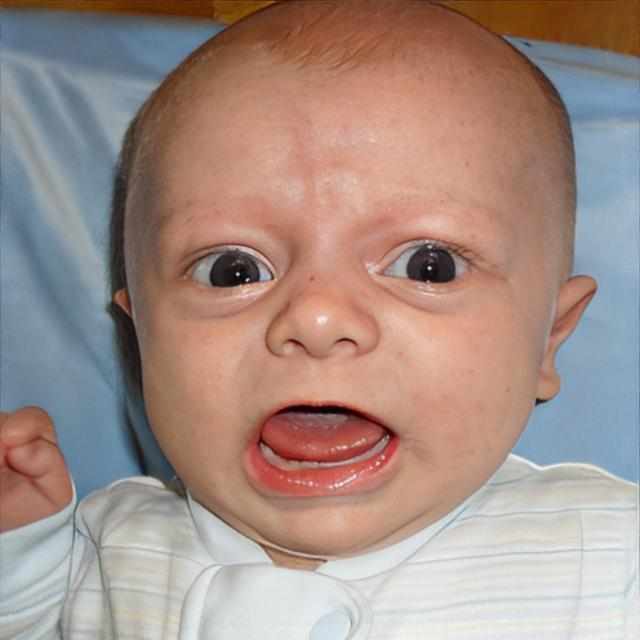fear: (132, 48, 540, 550)
